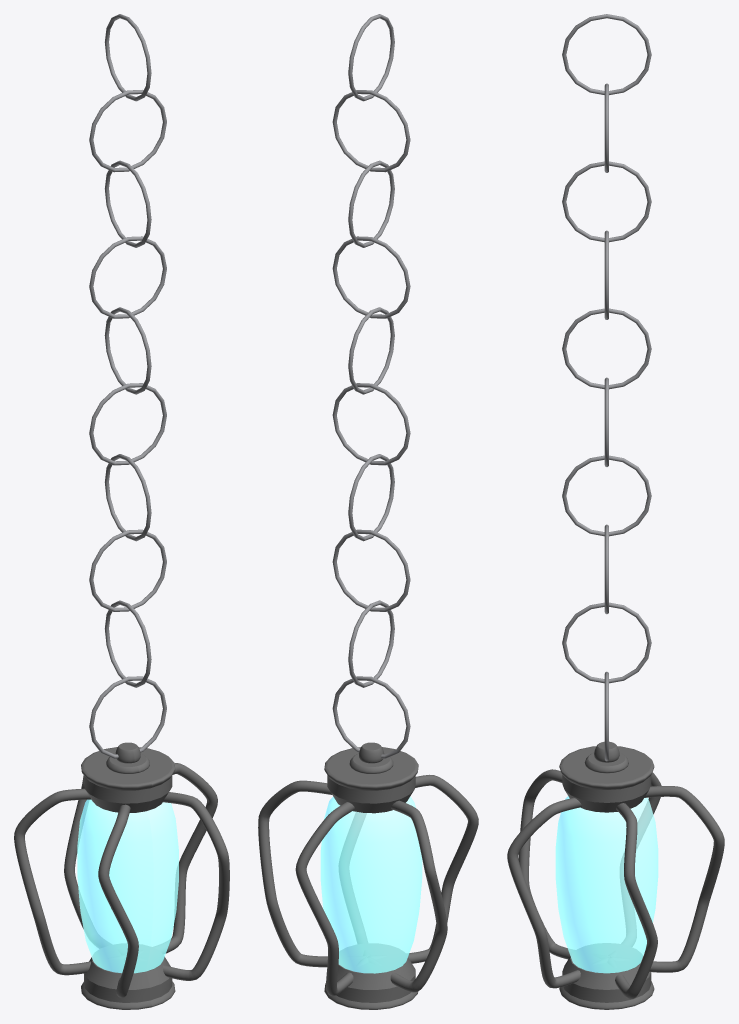
File: Lanterns.glb
The picture shows the model from 3 angles, left to right: view 1: azimuth 30°, elevation 25°; view 2: azimuth 150°, elevation 25°; view 3: azimuth 270°, elevation 25°; orthographic projection.
Parts seen in each view (by area): view 1: Light, Frame (×5), Torus Patch (×10), Bottom (×3), Top (×2), TopTwo, ChainMount; view 2: Light, Frame (×5), Torus Patch (×10), Bottom (×3), Top (×2), TopTwo, ChainMount; view 3: Light, Frame (×5), Torus Patch (×5), Bottom (×3), Top (×2), TopTwo, ChainMount.
Part boxes in pixels (x1,y1,x2,y2): Light: (77,799,178,973); Frame (×5): (14,763,229,997); Torus Patch (×10): (89,14,166,758); Bottom (×3): (81,944,175,1009); Top (×2): (81,747,175,803); TopTwo: (85,790,167,812); ChainMount: (106,753,149,773); Light: (320,796,422,973); Frame (×5): (258,774,478,995); Torus Patch (×10): (332,14,410,758); Bottom (×3): (324,944,417,1009); Top (×2): (324,747,418,803); TopTwo: (331,789,414,813); ChainMount: (349,753,393,773); Light: (555,796,658,973); Frame (×5): (507,769,724,998); Torus Patch (×5): (562,14,651,683); Bottom (×3): (559,943,654,1009); Top (×2): (559,746,654,802); TopTwo: (565,790,648,812); ChainMount: (584,753,628,773).
Bounding box in the file's own units: 0.3089 × 1.51 × 0.3058.
